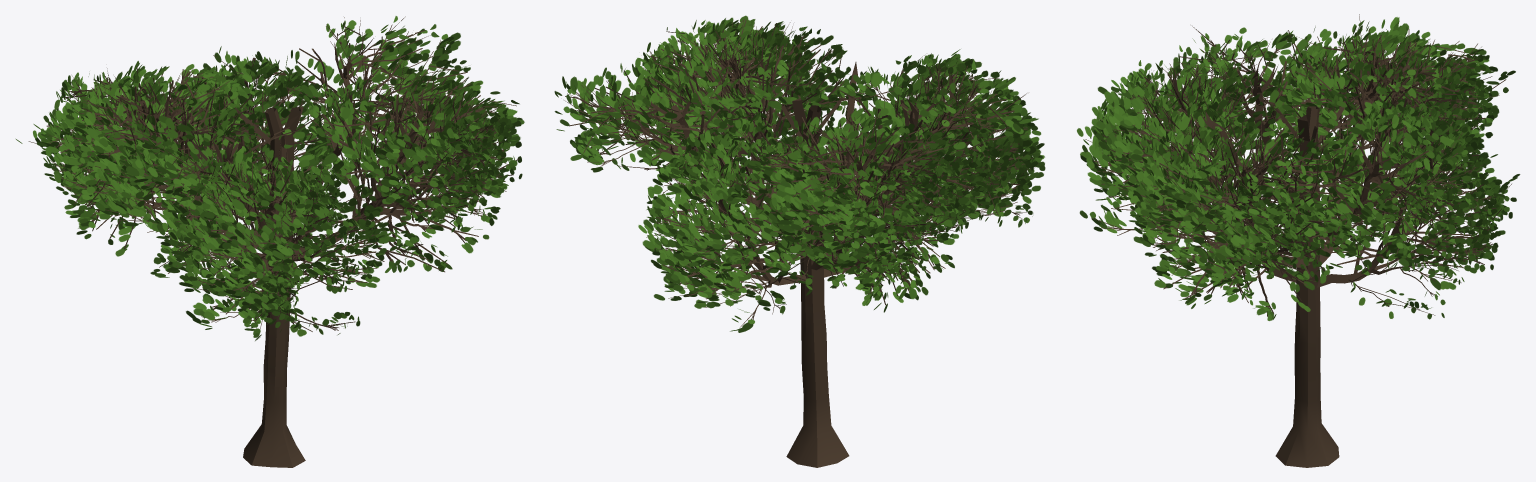
The picture shows the model from 3 angles, left to right: view 1: azimuth 30°, elevation 25°; view 2: azimuth 150°, elevation 25°; view 3: azimuth 270°, elevation 25°; orthographic projection.
Visible parts, largest first — view 1: oak 01.001_trunk_Mat.001_0.139; view 2: oak 01.001_trunk_Mat.001_0.139; view 3: oak 01.001_trunk_Mat.001_0.139.
Boxes of the visible parts, x1,y1,x2,y2 form: oak 01.001_trunk_Mat.001_0.139: (15,16,524,467); oak 01.001_trunk_Mat.001_0.139: (554,15,1045,467); oak 01.001_trunk_Mat.001_0.139: (1077,14,1520,467).
Size of the model in its own units: 5.56 by 4.55 by 4.97.
Materials: 2 (1 with a texture image).
